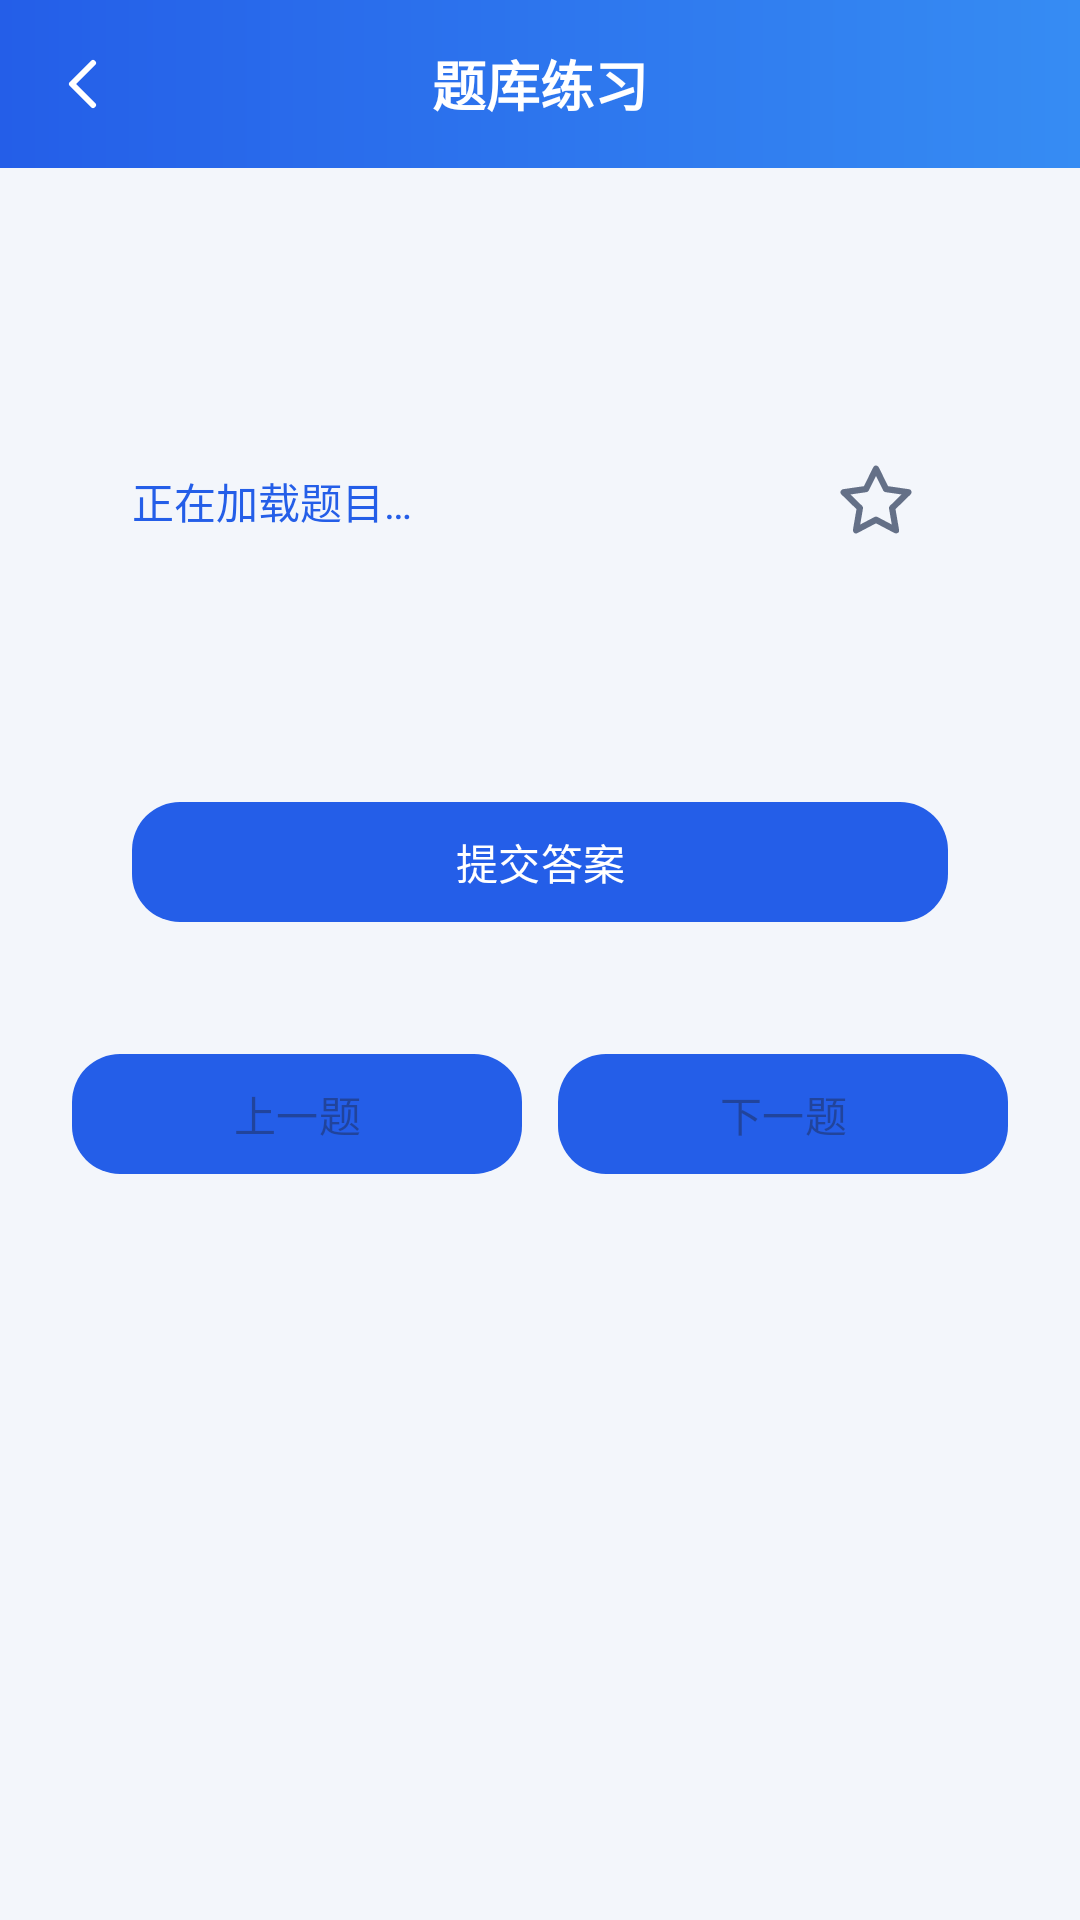

Point at icon controls on the screen. Image size 1080px x 1920px, points as [x,y].
收藏本题: [876,499]
返回练习选择: [82,84]
